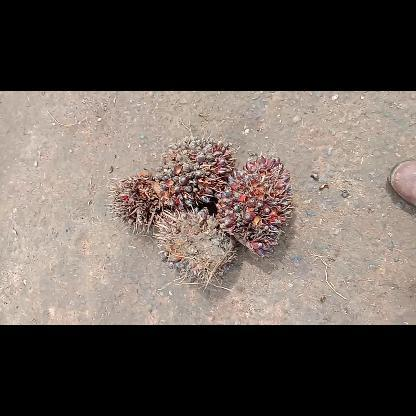TBS abnormal: (216, 156, 292, 256), (154, 210, 236, 282), (156, 134, 235, 204), (106, 174, 188, 232)
